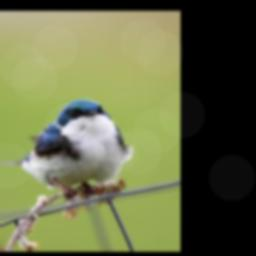Swallow: (0, 98, 135, 200)
